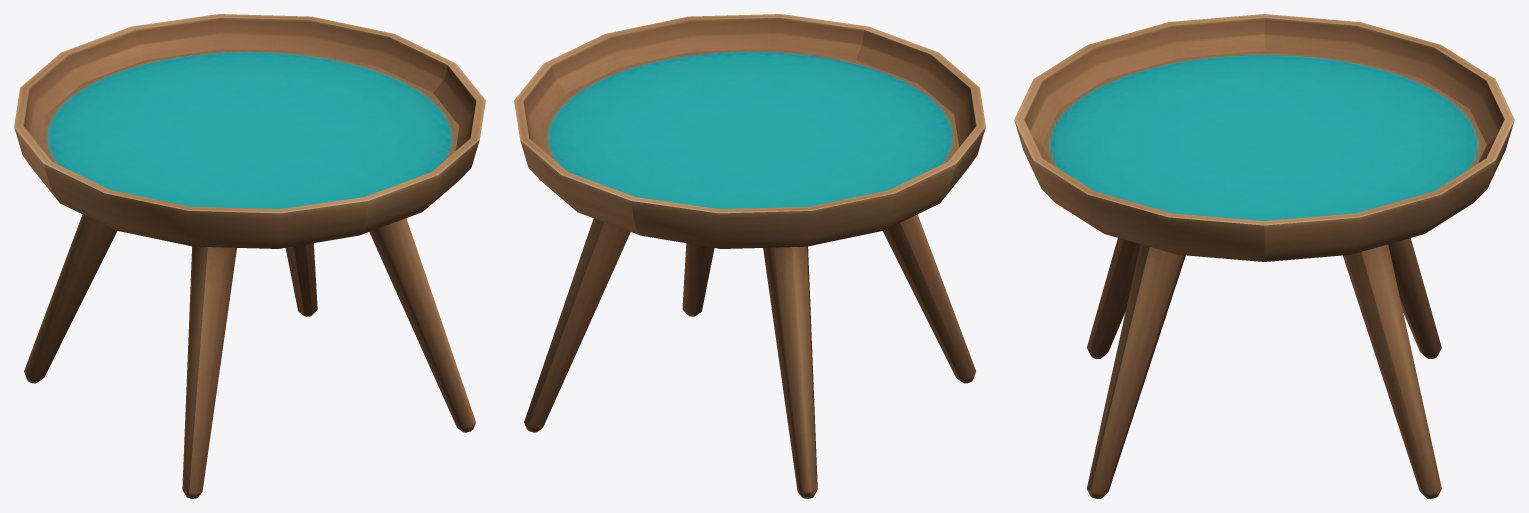
Rendered from sir_cumference_coffee_table.glb.
3 renders of one model, left to right at view 1: azimuth 30°, elevation 25°; view 2: azimuth 150°, elevation 25°; view 3: azimuth 270°, elevation 25°, orthographic. The views are drawn at different scales.
Visible parts, largest first — view 1: TinyLiving_SirCumferenceCoffeeTable; view 2: TinyLiving_SirCumferenceCoffeeTable; view 3: TinyLiving_SirCumferenceCoffeeTable.
Part boxes in pixels (x1=…): TinyLiving_SirCumferenceCoffeeTable: x1=14, y1=14, x2=485, y2=498; TinyLiving_SirCumferenceCoffeeTable: x1=514, y1=14, x2=985, y2=498; TinyLiving_SirCumferenceCoffeeTable: x1=1014, y1=14, x2=1514, y2=498.
Bounding box in the file's own units: 0.7306 × 0.4968 × 0.7306.
1 material, 1 textured.
